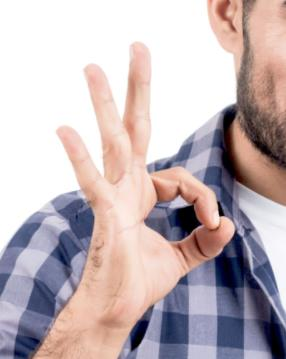left: (49, 40, 239, 323)
